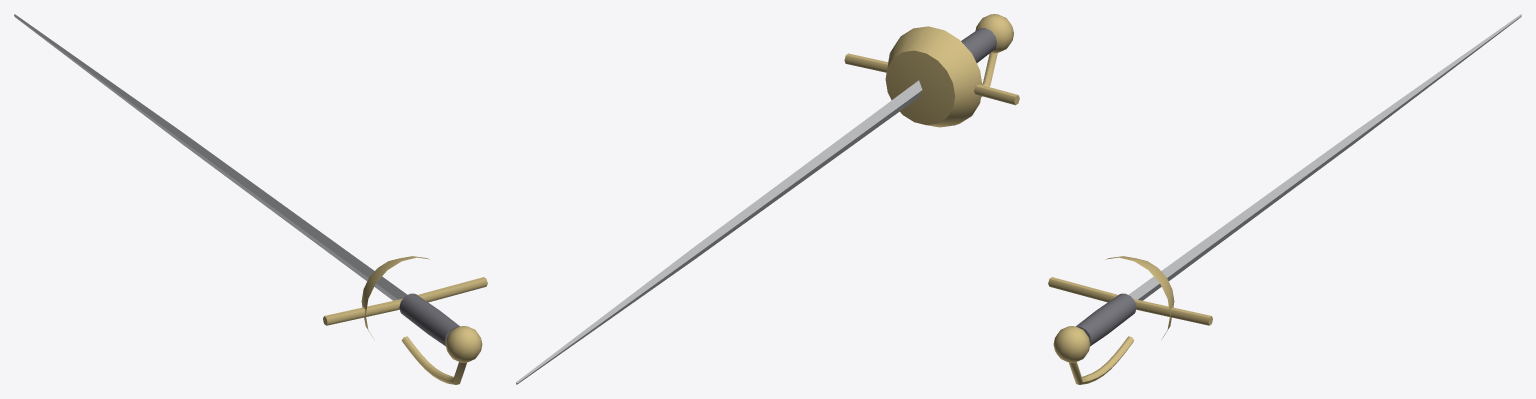
Rendered from rapier.glb.
3 views of the same model, side by side, from view 1: azimuth 30°, elevation 25°; view 2: azimuth 150°, elevation 25°; view 3: azimuth 330°, elevation 25° (orthographic). The views are drawn at different scales.
Parts seen in each view (by area): view 1: rapier; view 2: rapier; view 3: rapier.
Boxes of the visible parts, left/top/right/bottom form: rapier: left=14, top=14, right=487, bottom=384; rapier: left=516, top=14, right=1019, bottom=384; rapier: left=1048, top=14, right=1521, bottom=384.
Bounding box in the file's own units: 0.2205 × 0.1284 × 1.09.
